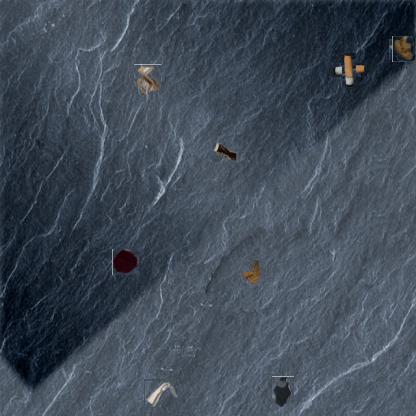dirty: (144, 380, 178, 408), (133, 64, 161, 95), (240, 258, 264, 286), (336, 58, 362, 82), (391, 38, 414, 61), (213, 142, 239, 162)
liquid: (113, 249, 139, 276), (272, 376, 294, 407)
